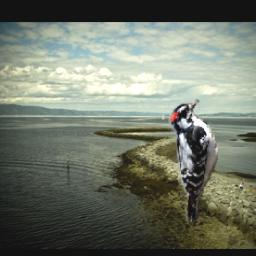Woodpecker: (168, 99, 218, 221)
